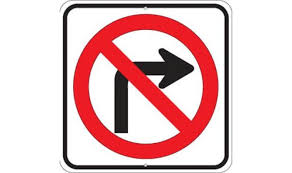No_right_turn: (74, 14, 219, 159)
